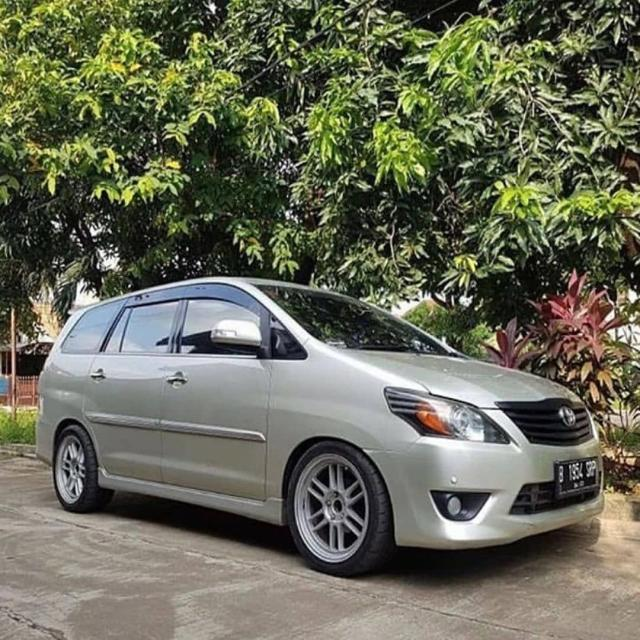light_vehicle: (34, 276, 606, 576)
